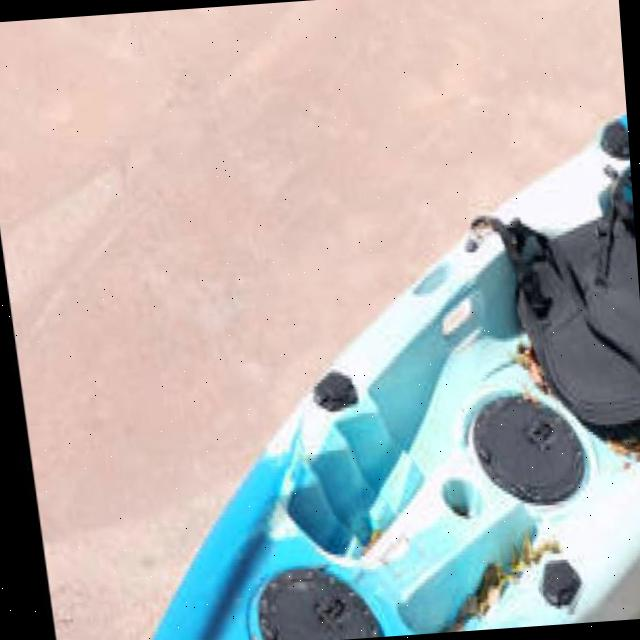kayak: (145, 111, 640, 640)
